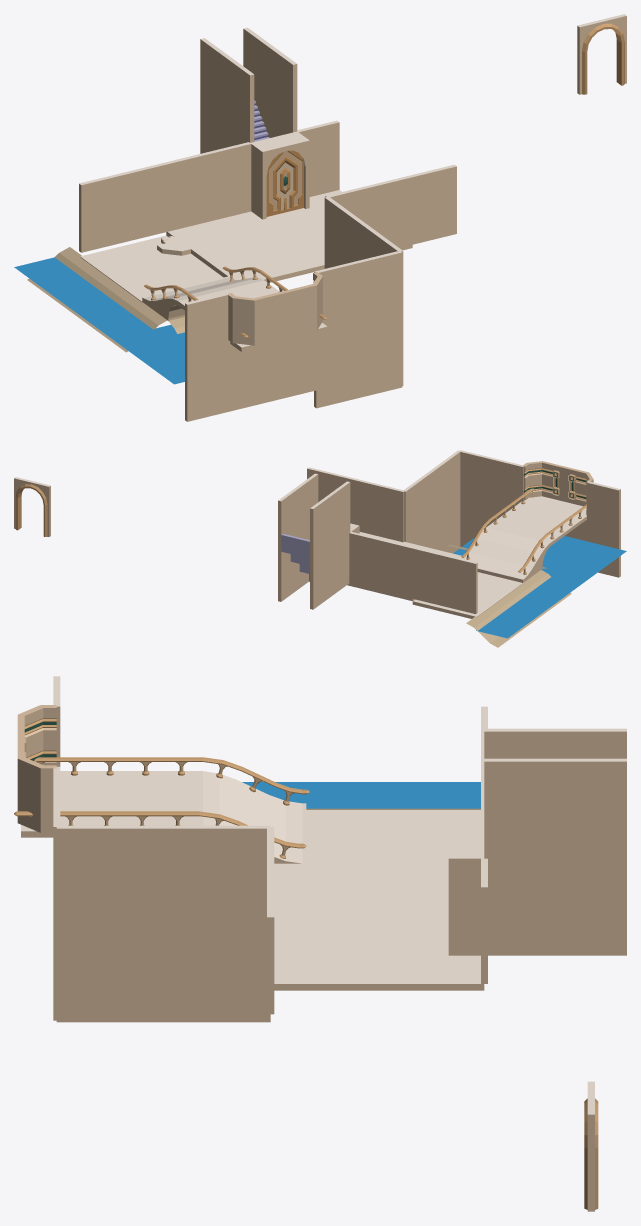
Rendered from temple_main.obj.
3 views of the same model, one above another, from view 1: azimuth 30°, elevation 25°; view 2: azimuth 150°, elevation 25°; view 3: azimuth 270°, elevation 25° (orthographic). The views are drawn at different scales.
Parts seen in each view (by area): view 1: mergedBlocks; view 2: mergedBlocks; view 3: mergedBlocks.
Part boxes in pixels (<box>): mergedBlocks: <box>14,14,626,421</box>; mergedBlocks: <box>14,450,626,647</box>; mergedBlocks: <box>14,676,626,1211</box>.
Size of the model in its own units: 29.6 by 9 by 17.2.
